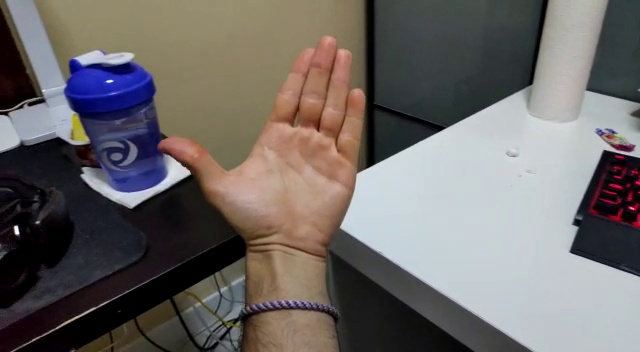Palm: (157, 32, 368, 268)
